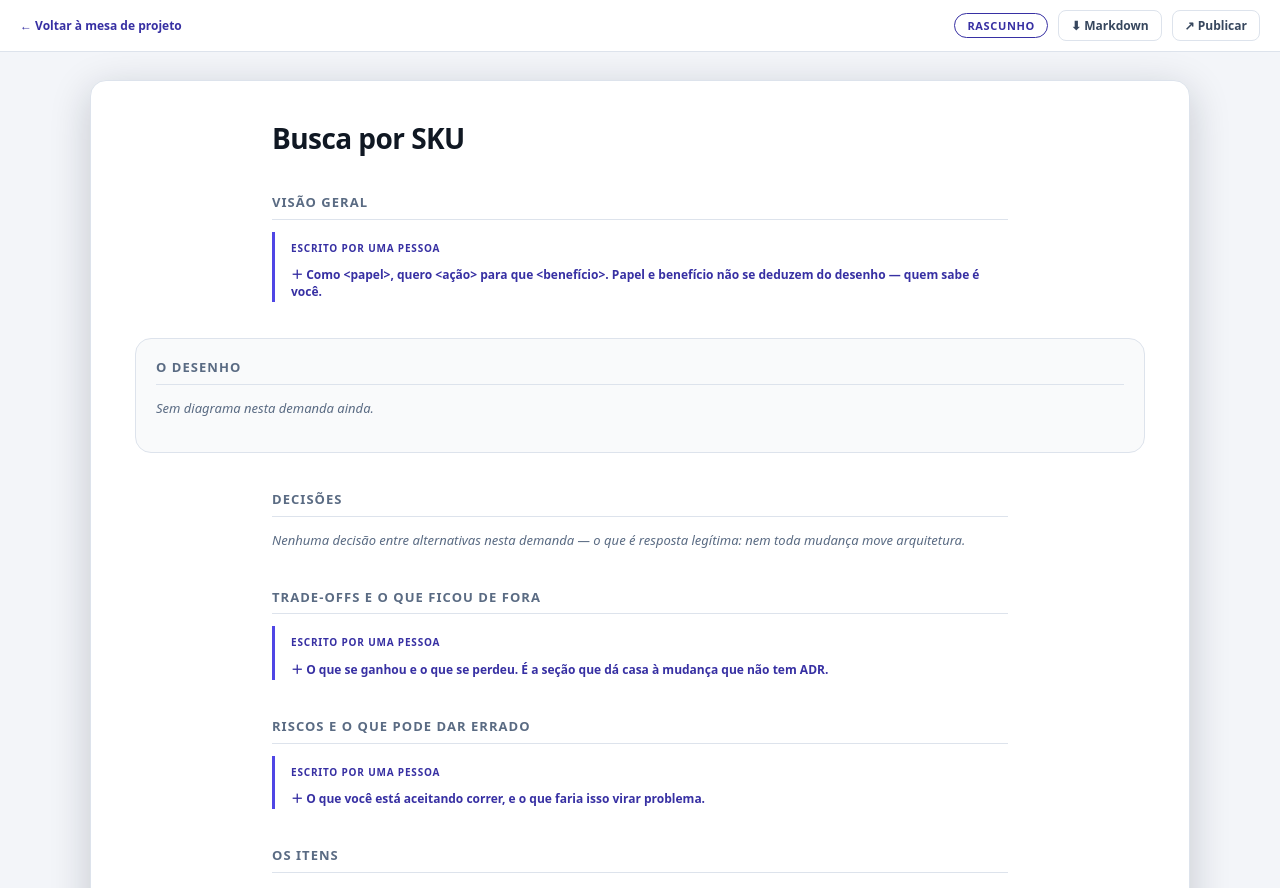
Test: publicar o documento (SPEC-81 fatia B) › o erro do servidor chega inteiro — inclusive o “escolha o destino”
Click the button with test id "publicar-documento".
click(1216, 26)  # box [1172, 10, 1260, 41]
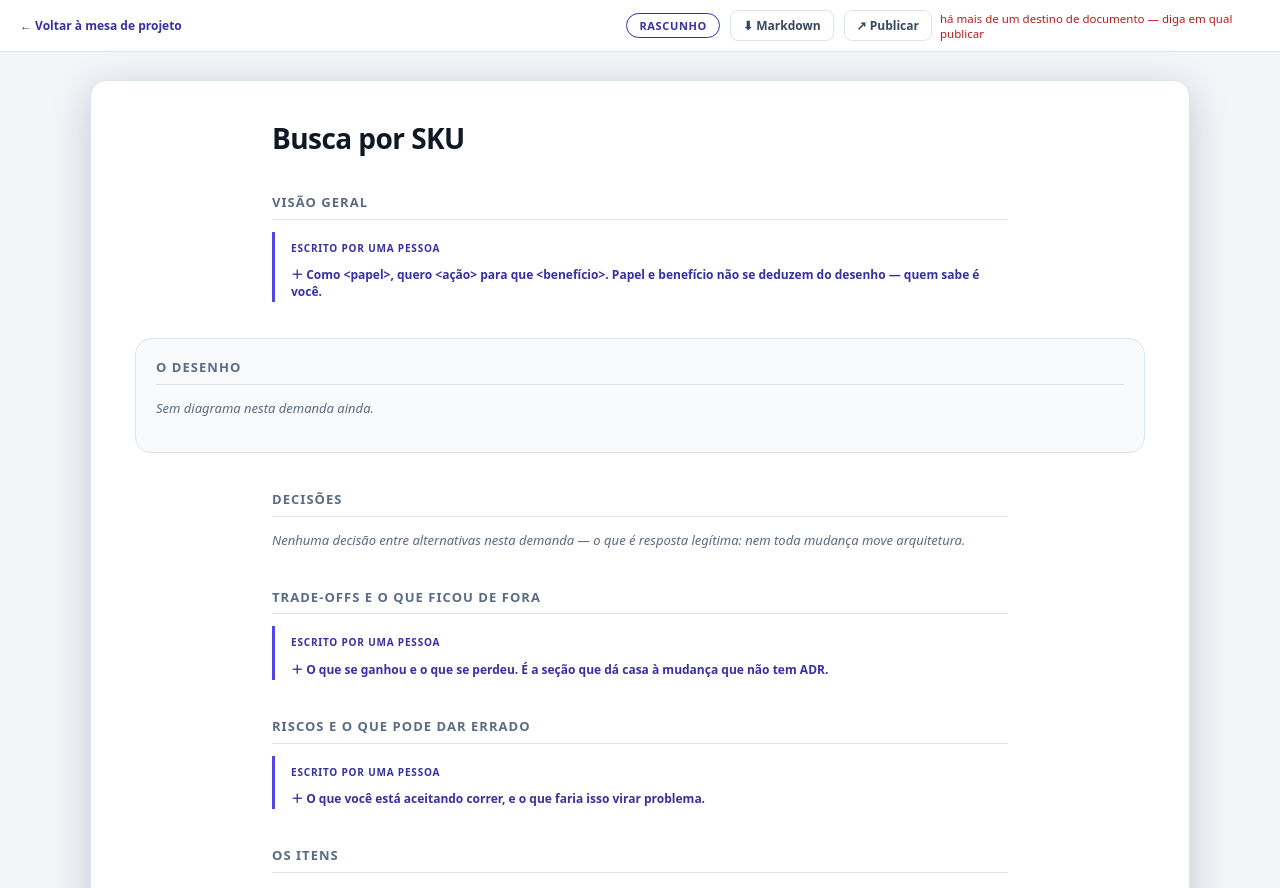
Expected: the button with test id "publicar-documento" is enabled, [844, 10, 932, 41]
Now the text with test id "erro-ao-publicar" shows "diga em qual publicar", box [940, 10, 1232, 40]
